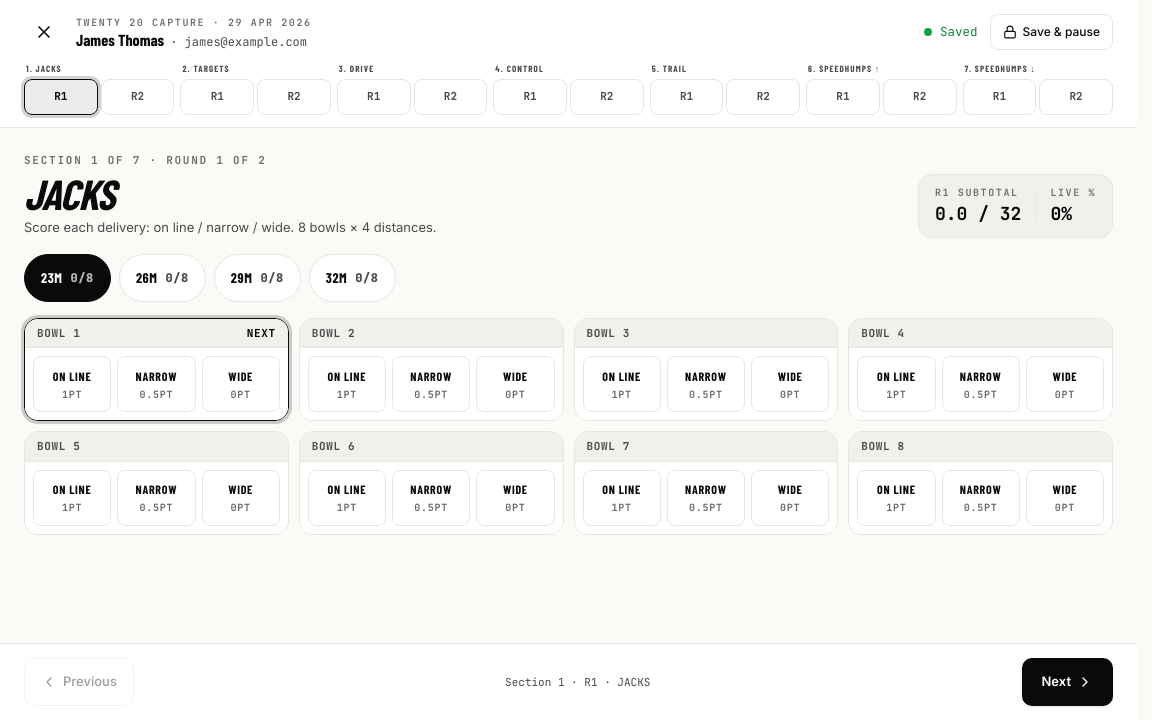
Test: <CaptureWizard /> — finalize › Finalize is disabled when not every cell is complete
Click the button "R2" below "Speedhumps ↓" at (1076, 96), box [1039,78,1113,114]
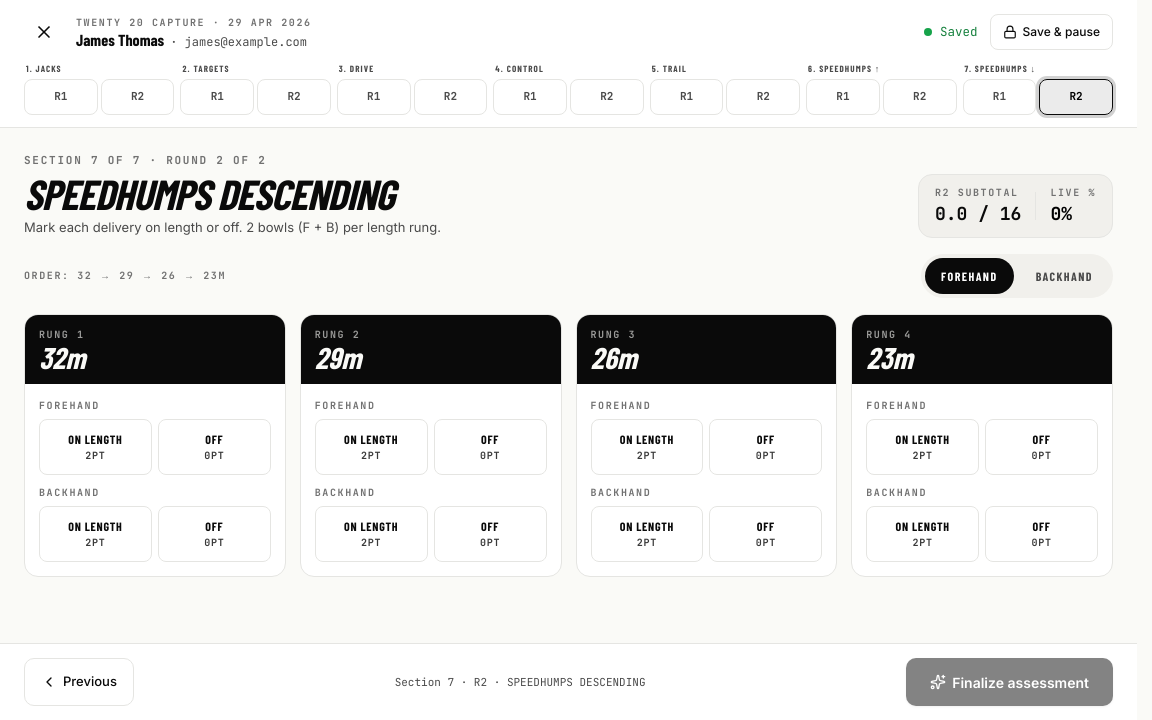
Expected: the button "Finalize assessment" is disabled, [906,658,1113,706]
